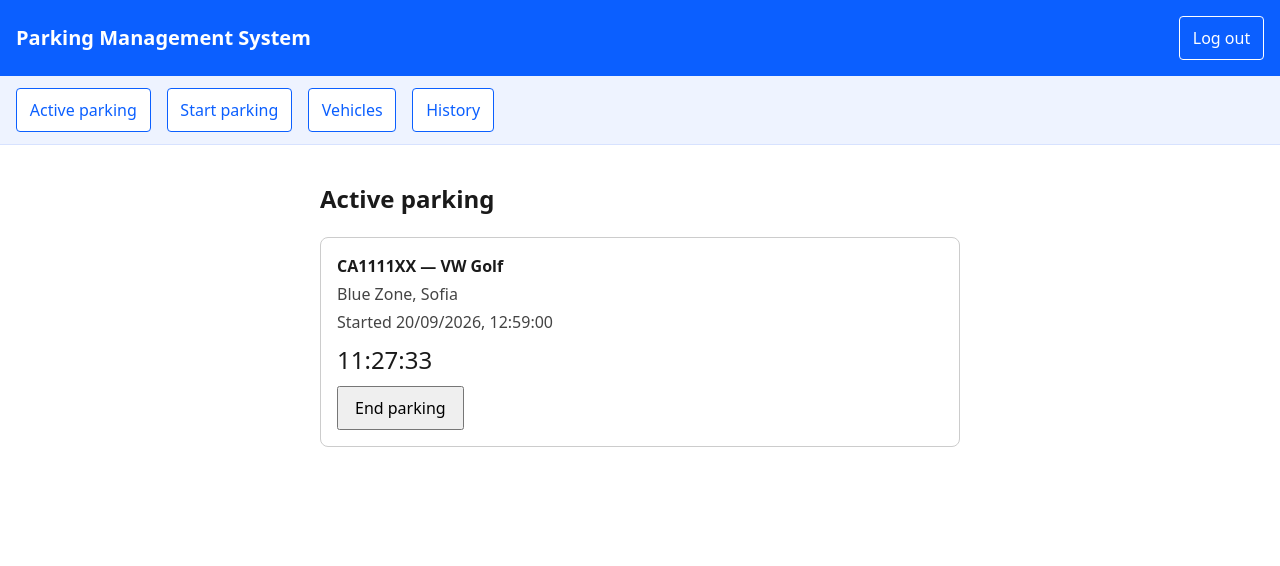
Test: ActivePage › tapping End with a mocked 409 whose body is the ended session renders that same ended session and its amount, not a generic failure
Click the button "End parking" at (400, 408), box [337,386,464,430]
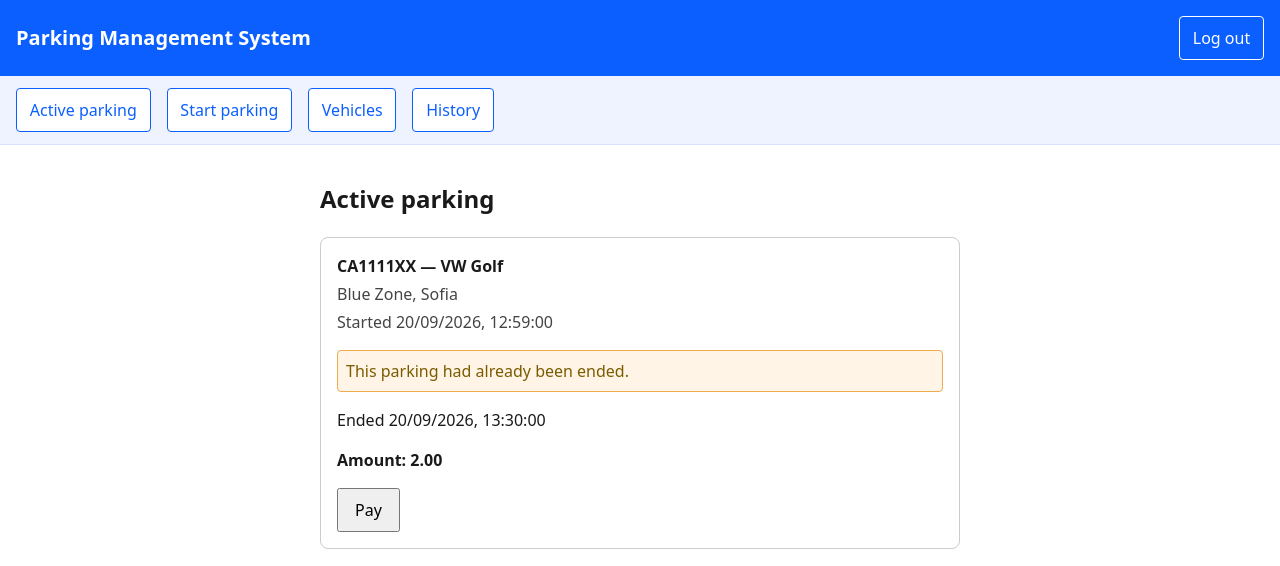
expect the text "This parking had already been ended." is shown: met, box [337,350,943,392]
expect the button "Pay" is shown: met, box [337,488,400,532]
expect the text "Ended 20/09/2026, 13:30:00" is shown: met, box [337,409,546,431]
